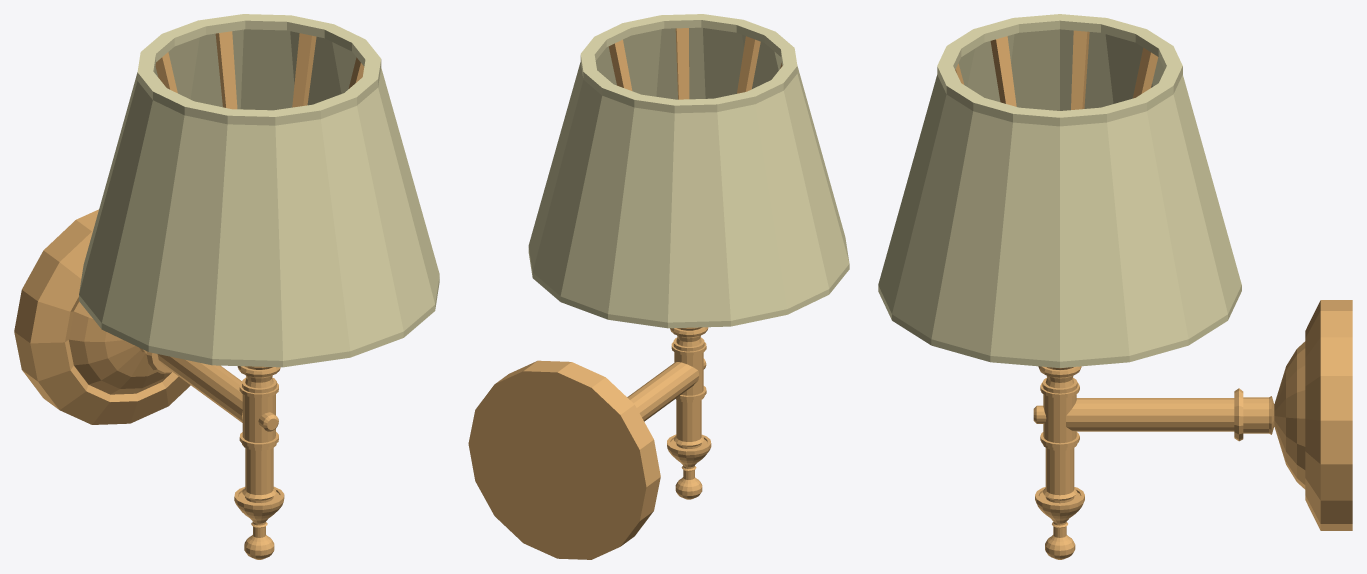
File: lampada.fbx
The picture shows the model from 3 angles, left to right: view 1: azimuth 30°, elevation 25°; view 2: azimuth 150°, elevation 25°; view 3: azimuth 270°, elevation 25°; orthographic projection. The views are drawn at different scales.
Parts seen in each view (by area): view 1: candeeiro; view 2: candeeiro; view 3: candeeiro.
Part boxes in pixels (left/top/right/bottom): candeeiro: left=14, top=14, right=439, bottom=559; candeeiro: left=468, top=14, right=849, bottom=559; candeeiro: left=878, top=14, right=1352, bottom=559.
Size of the model in its own units: 94.83 by 141 by 124.
